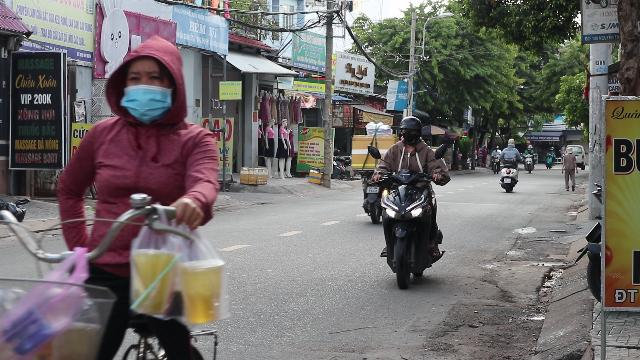helmet: (397, 115, 423, 144)
motorcyclist: (374, 115, 450, 287)
